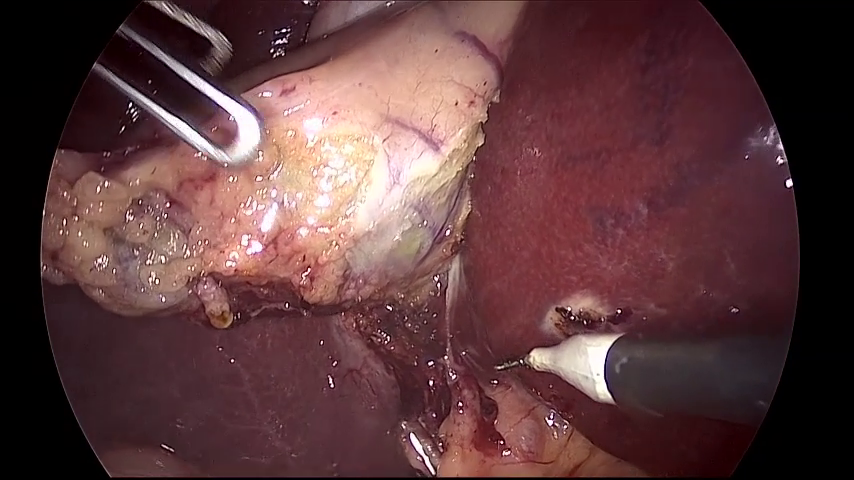grasper: (93, 1, 260, 161)
lhook: (497, 327, 792, 430)
